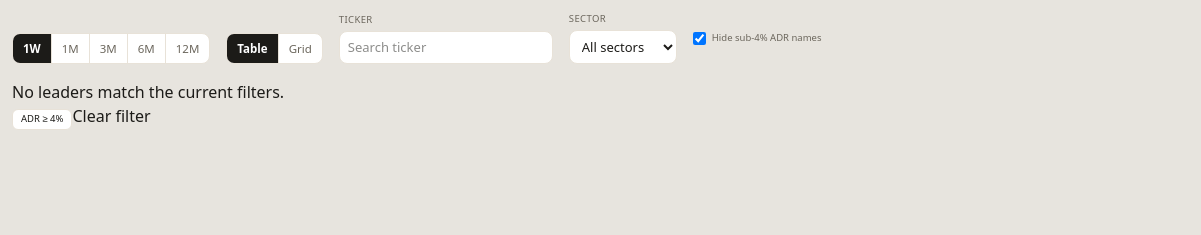
the Leaders screen › a zero-row table reads as filter-inflicted, with the toggle chip and a clear action (spec §7.4)
Expected: the text "ADR ≥ 4%" is shown, [12,109,72,130]
Click the button "Clear filter": {"x": 112, "y": 116} [72,104,151,128]
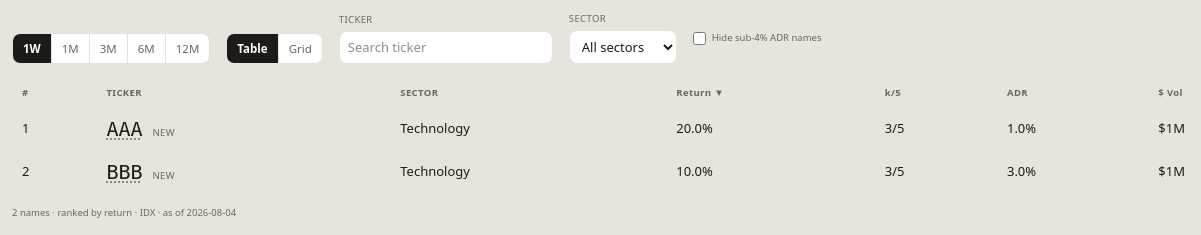
Now the button "AAA" is shown, box [106,114,142,144]
